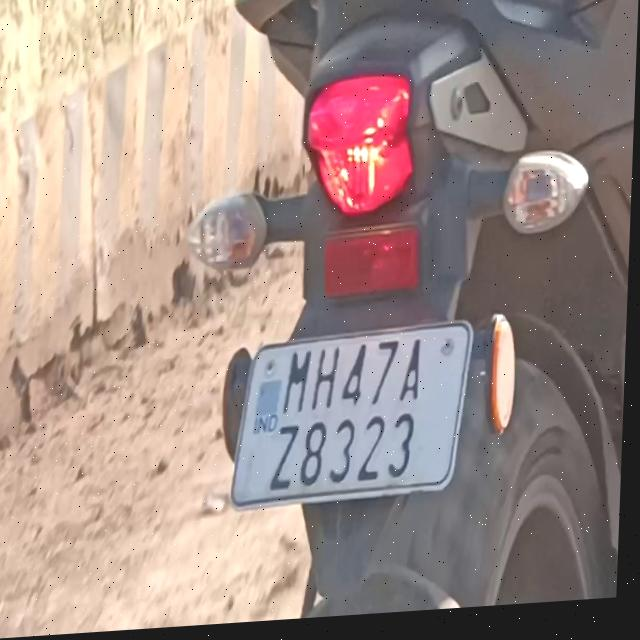plate: (233, 323, 477, 514)
